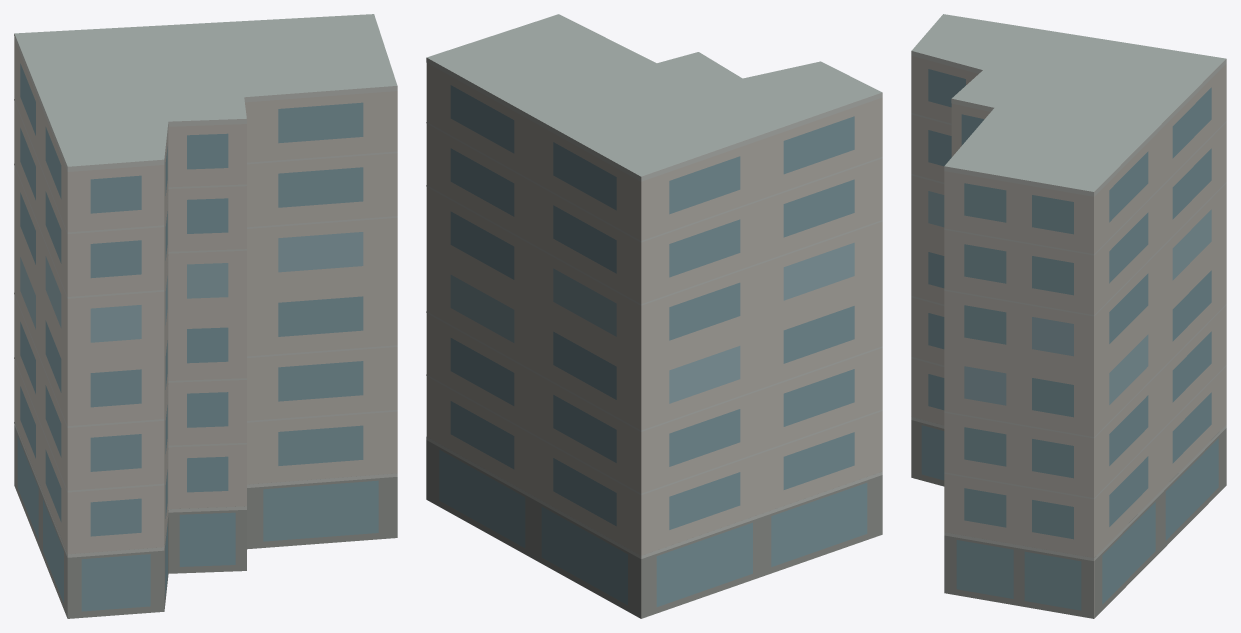
The model's file is survey-upis-32683010.glb.
3 renders of one model, left to right at view 1: azimuth 30°, elevation 25°; view 2: azimuth 150°, elevation 25°; view 3: azimuth 270°, elevation 25°, orthographic. The views are drawn at different scales.
Parts seen in each view (by area): view 1: survey-upis-32683010.tmp; view 2: survey-upis-32683010.tmp; view 3: survey-upis-32683010.tmp.
Boxes of the visible parts, x1,y1,x2,y2 form: survey-upis-32683010.tmp: (14, 14, 397, 618); survey-upis-32683010.tmp: (426, 14, 882, 618); survey-upis-32683010.tmp: (911, 14, 1226, 618).
Bounding box in the file's own units: 19.03 × 21.25 × 14.24.
